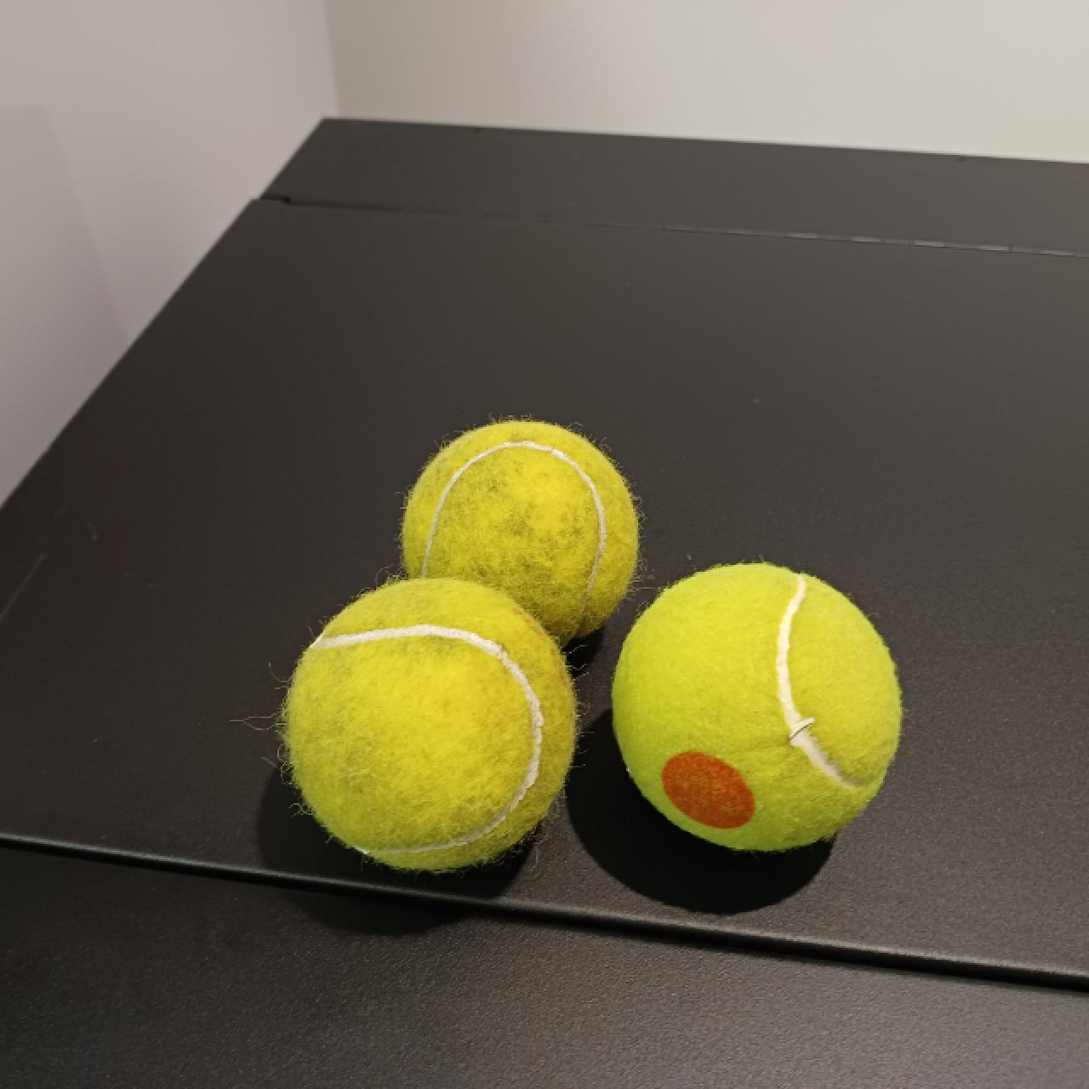tennis-ball: (280, 572, 577, 872), (611, 562, 903, 852), (399, 418, 639, 651)
